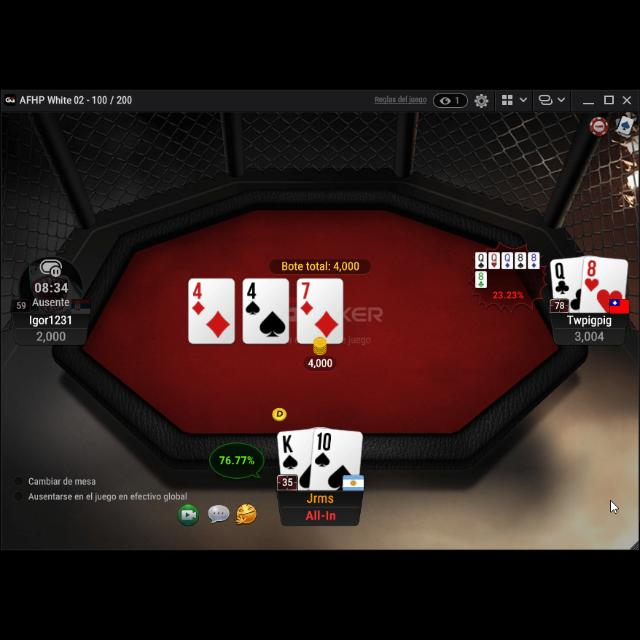4d: (190, 280, 208, 316)
4s: (244, 280, 262, 316)
7d: (299, 282, 315, 316)
8h: (584, 258, 600, 292)
Ks: (280, 432, 300, 472)
Qc: (553, 260, 571, 296)
Ts: (312, 428, 333, 468)
all_in_symbol: (304, 506, 338, 522)
bet_text: (308, 356, 334, 368)
dealer: (270, 404, 288, 422)
pot_text: (282, 259, 361, 271)
stack_text: (35, 328, 67, 344), (574, 329, 606, 343)
